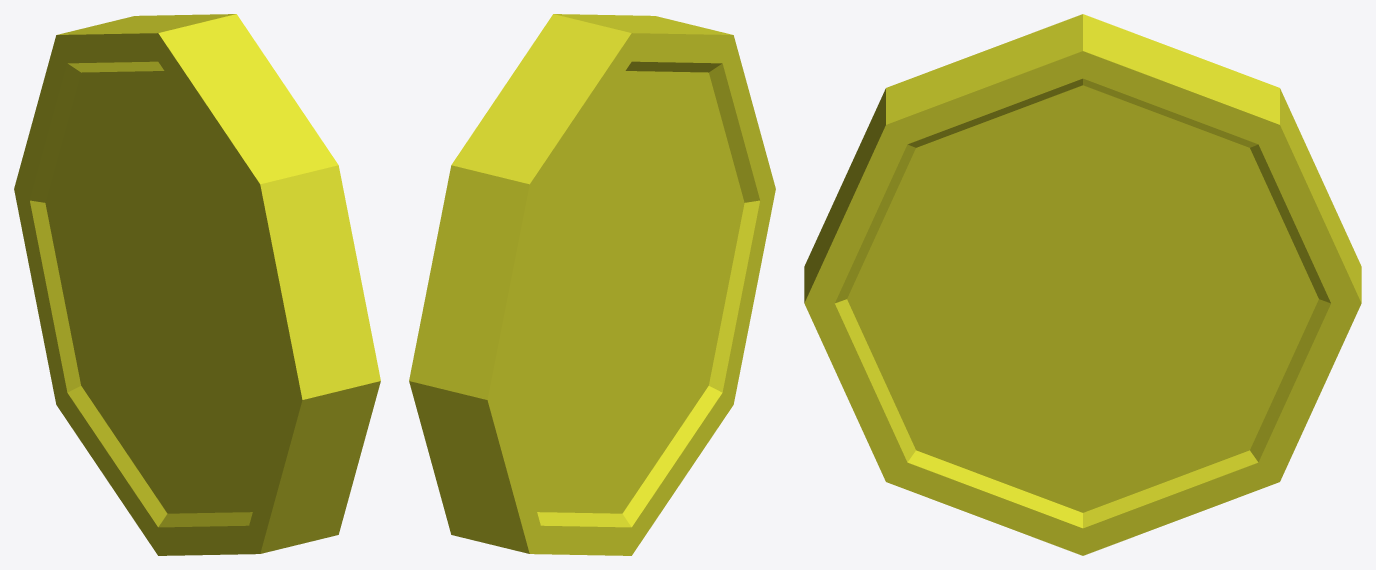
Rendered from Coin.fbx.
The picture shows the model from 3 angles, left to right: view 1: azimuth 30°, elevation 25°; view 2: azimuth 150°, elevation 25°; view 3: azimuth 270°, elevation 25°; orthographic projection. The views are drawn at different scales.
Parts seen in each view (by area): view 1: Cylinder; view 2: Cylinder; view 3: Cylinder.
Part boxes in pixels (<box>): Cylinder: <box>14,14,380,555</box>; Cylinder: <box>409,14,775,555</box>; Cylinder: <box>804,14,1361,555</box>.
Bounding box in the file's own units: 7.85 × 50 × 50.
